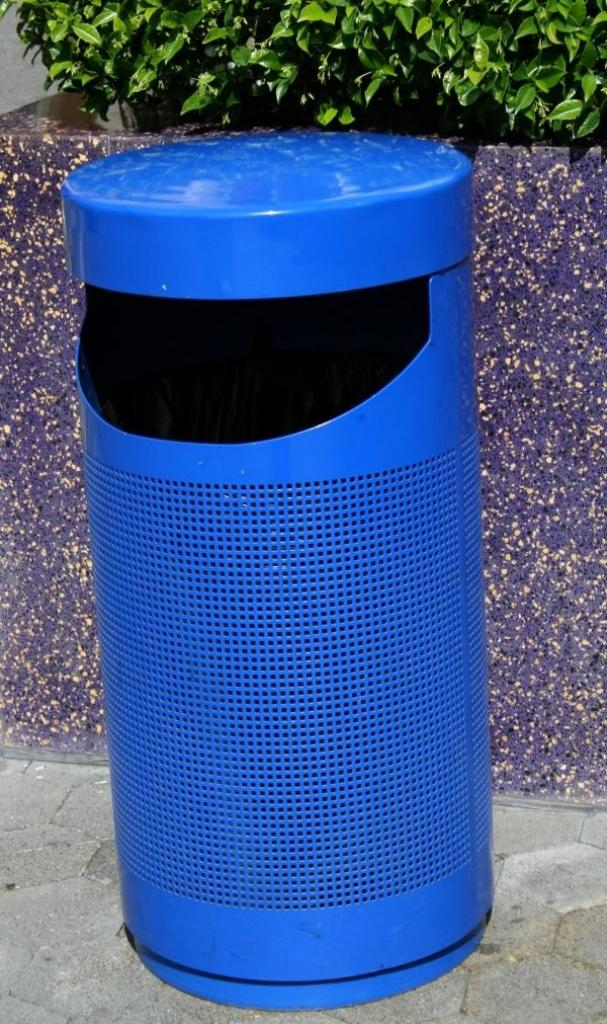dustbin: (52, 127, 550, 1019)
